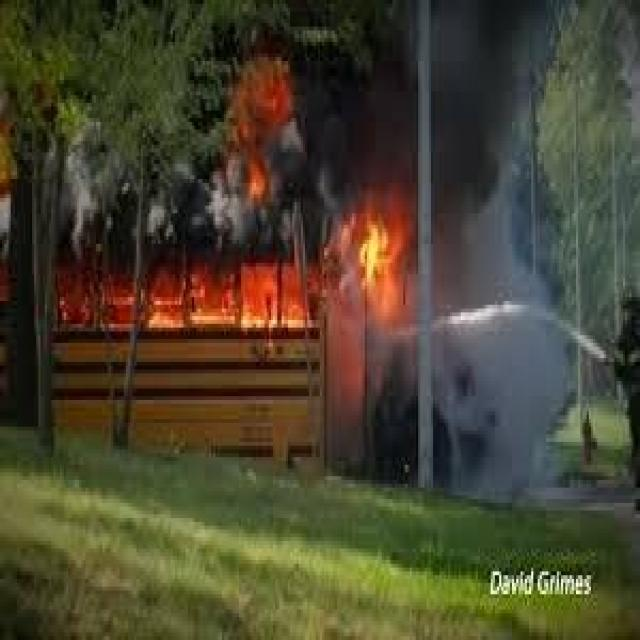fire: (42, 188, 332, 356), (328, 151, 409, 343)
smoke: (170, 11, 512, 192)
